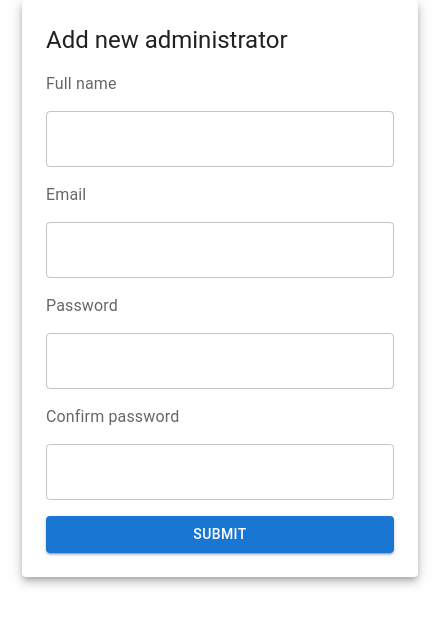
Test case: AddAdmin › Should display password match error when passwords don't match
Type "sdvfvdfbsfv" into the password field with test id "password_field".
click(220, 361); type("sdvfvdfbsfv")  # box [46,333,394,389]
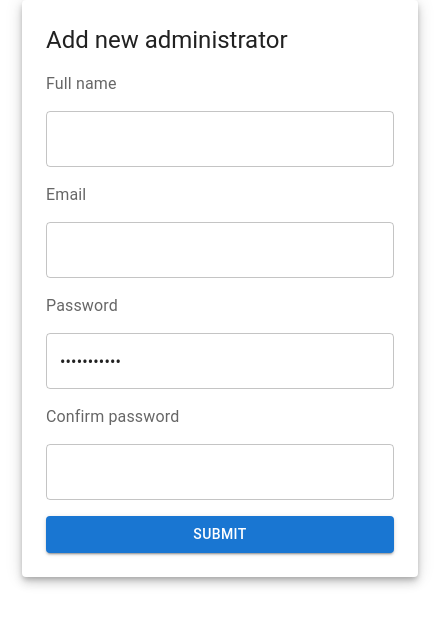
Type "avsdfbstvddsava" into the password field with test id "password_conf_field".
click(220, 472); type("avsdfbstvddsava")  # box [46,444,394,500]
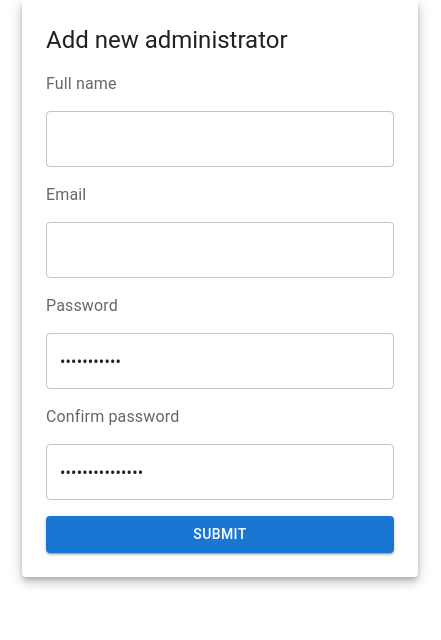
Click the button with test id "submit_button".
click(220, 534)  # box [46,516,394,552]
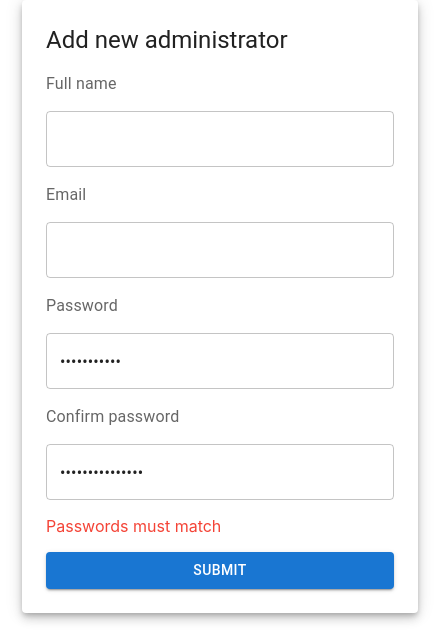
expect the text "Passwords must match" is shown: met, box [46,516,221,536]
